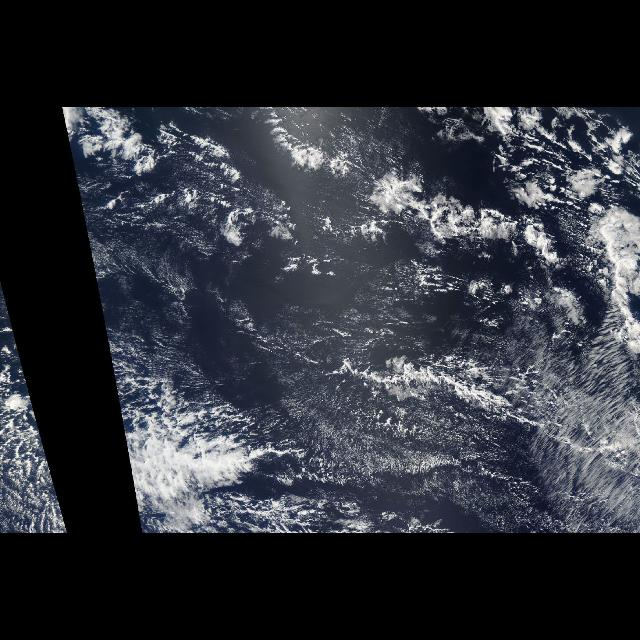Sugar: (102, 232, 640, 534)
